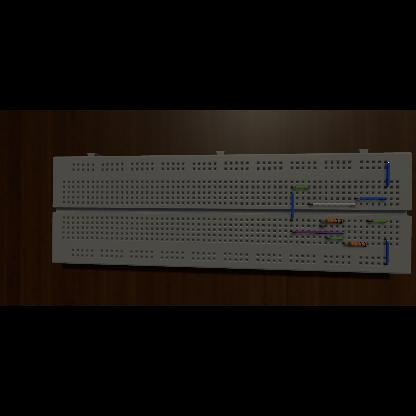breadboard: (52, 150, 412, 274)
resistor: (349, 242, 367, 248), (326, 218, 342, 224)
wire: (290, 232, 346, 235), (384, 162, 390, 188), (290, 192, 294, 222), (384, 238, 388, 266), (308, 203, 356, 205), (324, 236, 346, 240), (354, 198, 388, 200), (366, 220, 388, 222), (290, 187, 310, 189), (318, 220, 326, 222), (319, 225, 327, 226), (342, 244, 350, 245), (343, 220, 345, 222), (367, 244, 369, 245)
